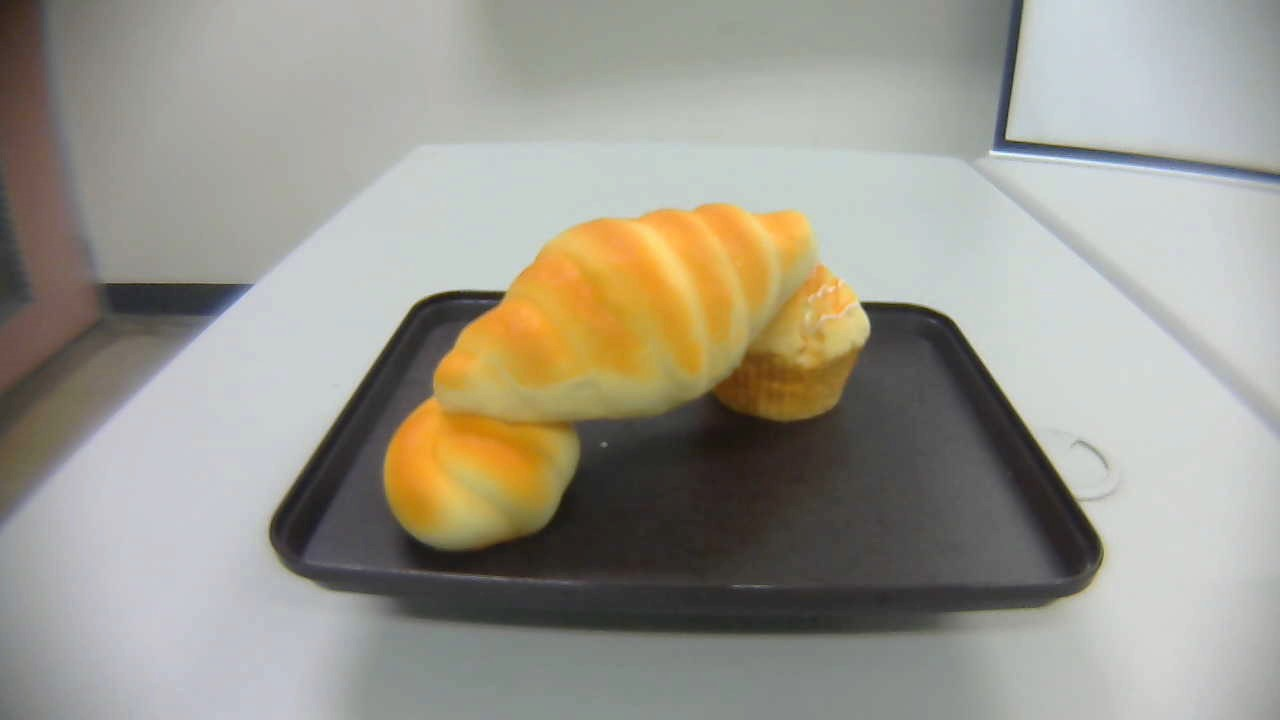croissant: (432, 202, 815, 423)
cupcake: (708, 258, 871, 420)
twist bread: (382, 370, 583, 549)
